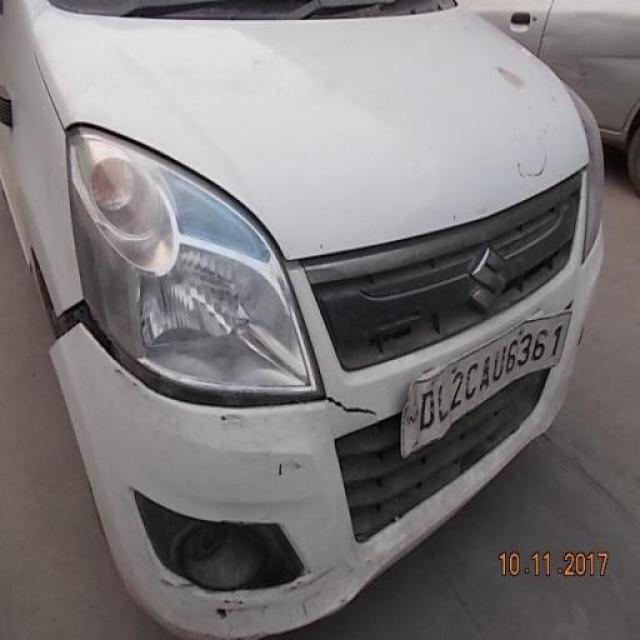misalignment: (53, 292, 330, 424)
scratch: (195, 567, 340, 624)
tear: (326, 395, 387, 421)
